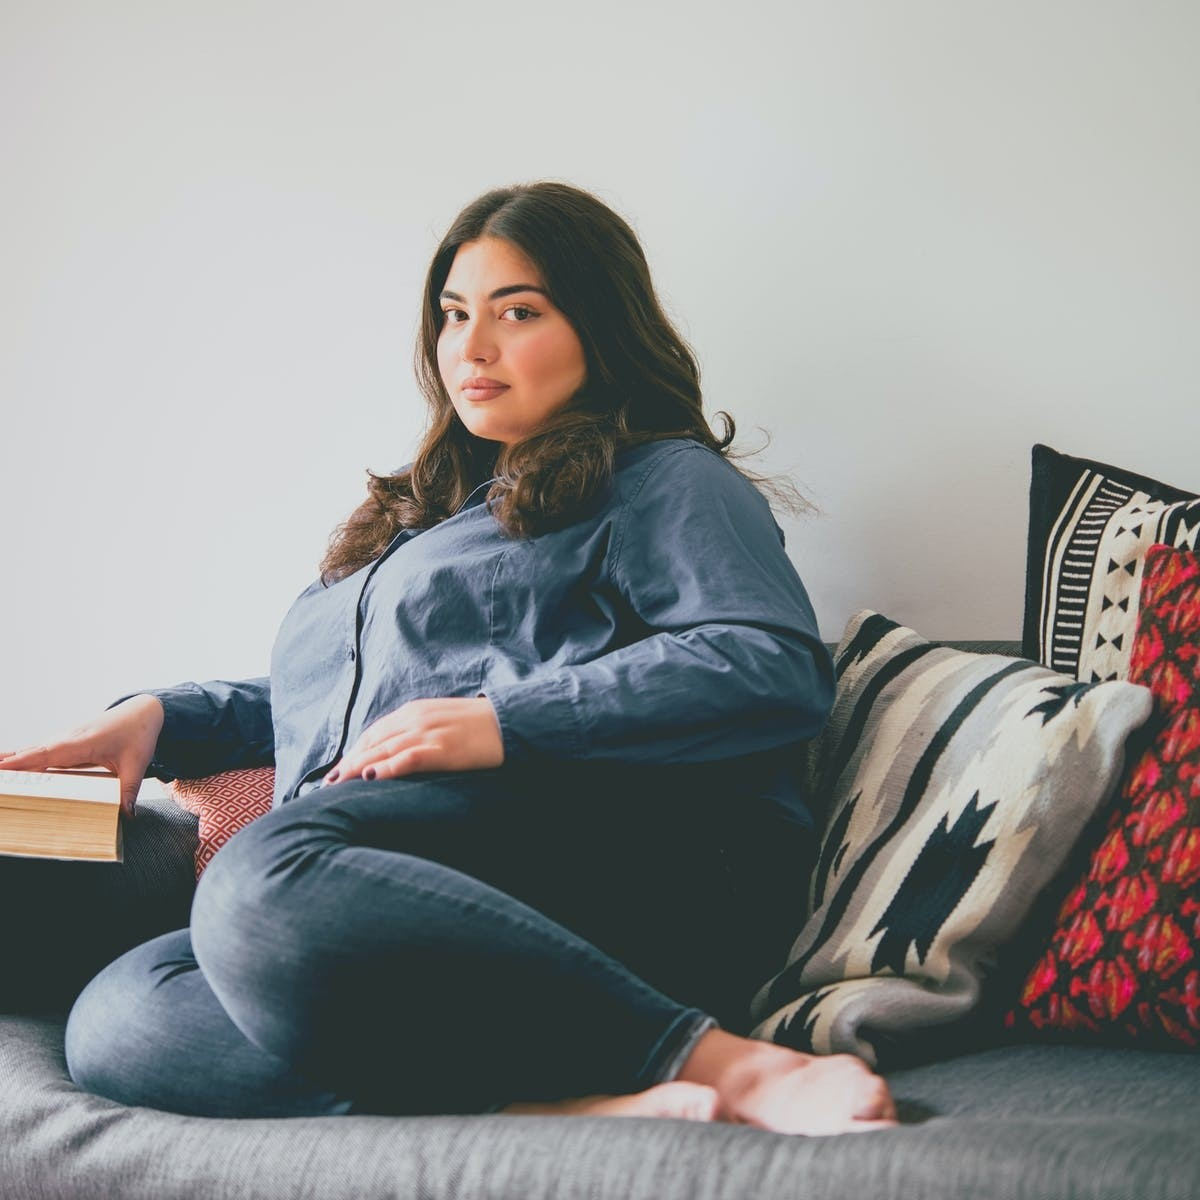face_no_mask: (425, 182, 649, 444)
